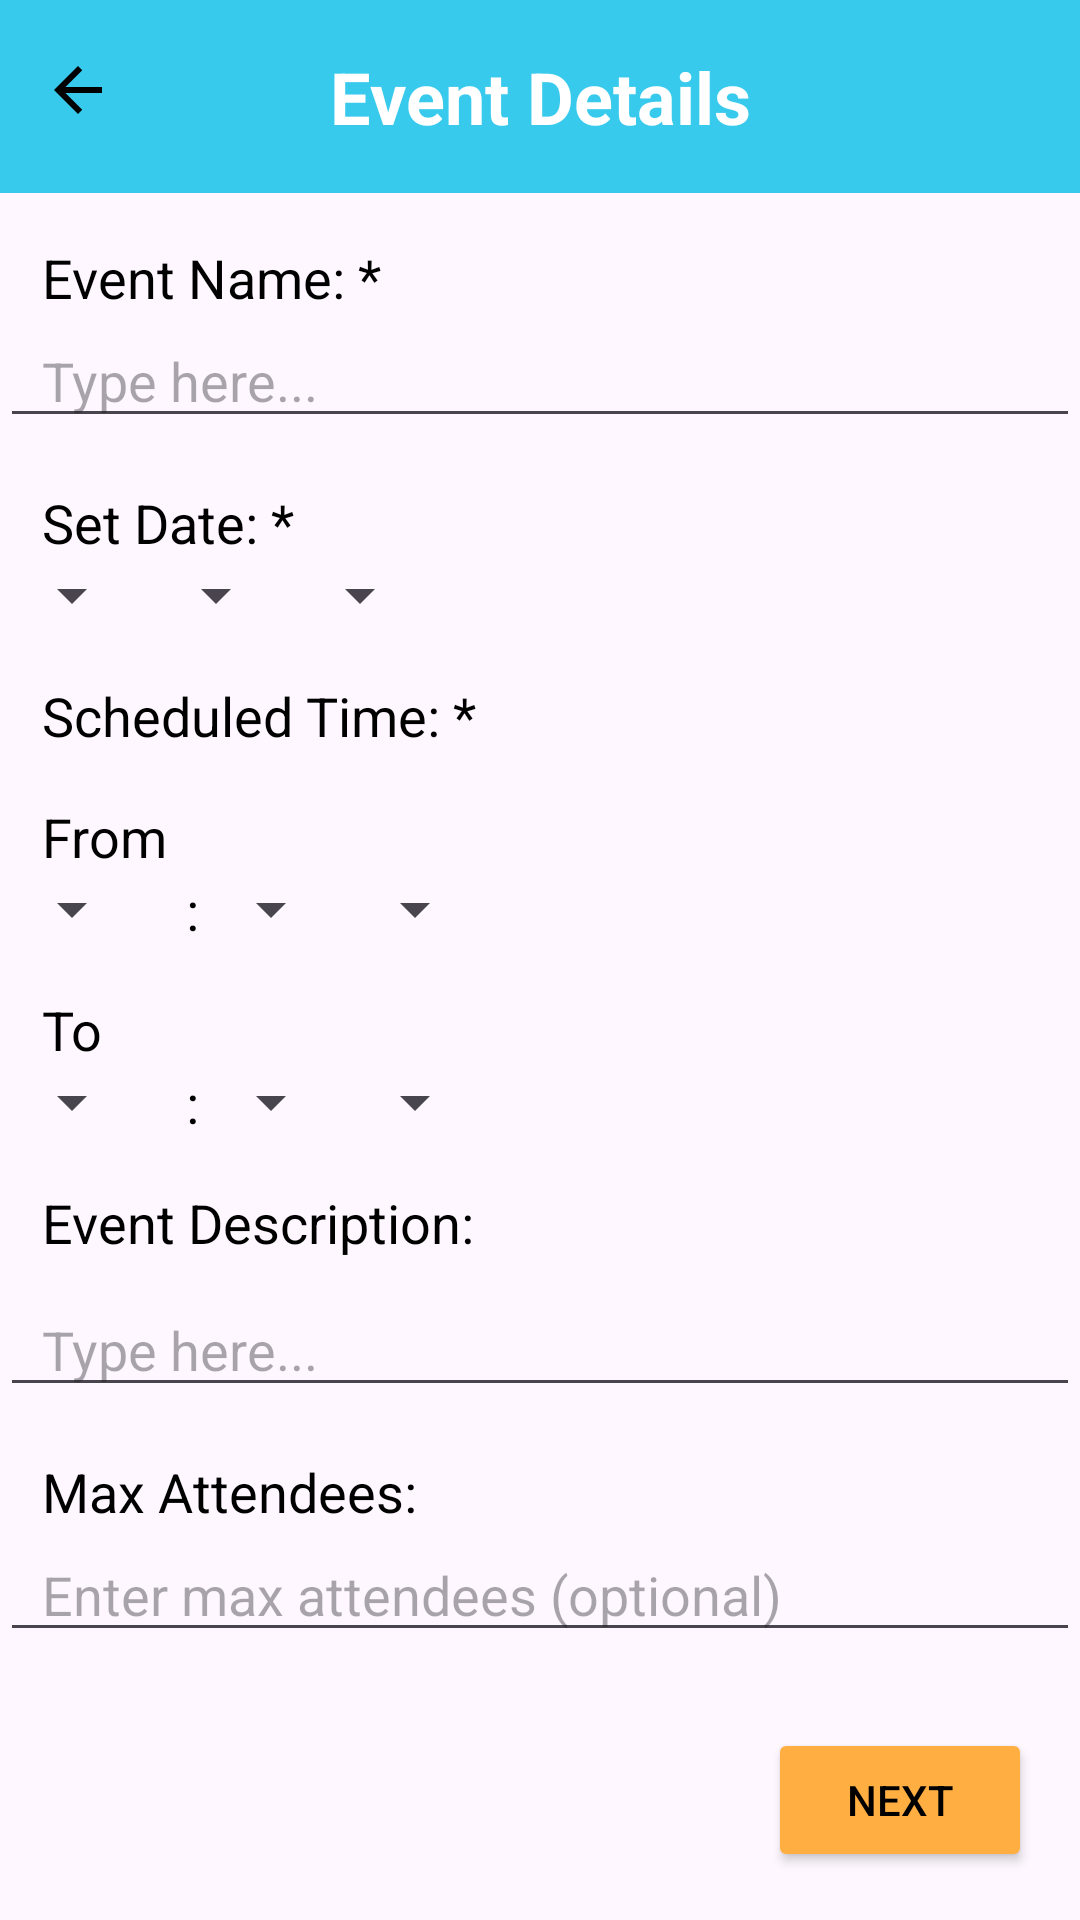

Named icons in this screenshot (1080 x 1920) and their centers, point (x, y):
go back to previous page: point (78, 90)
